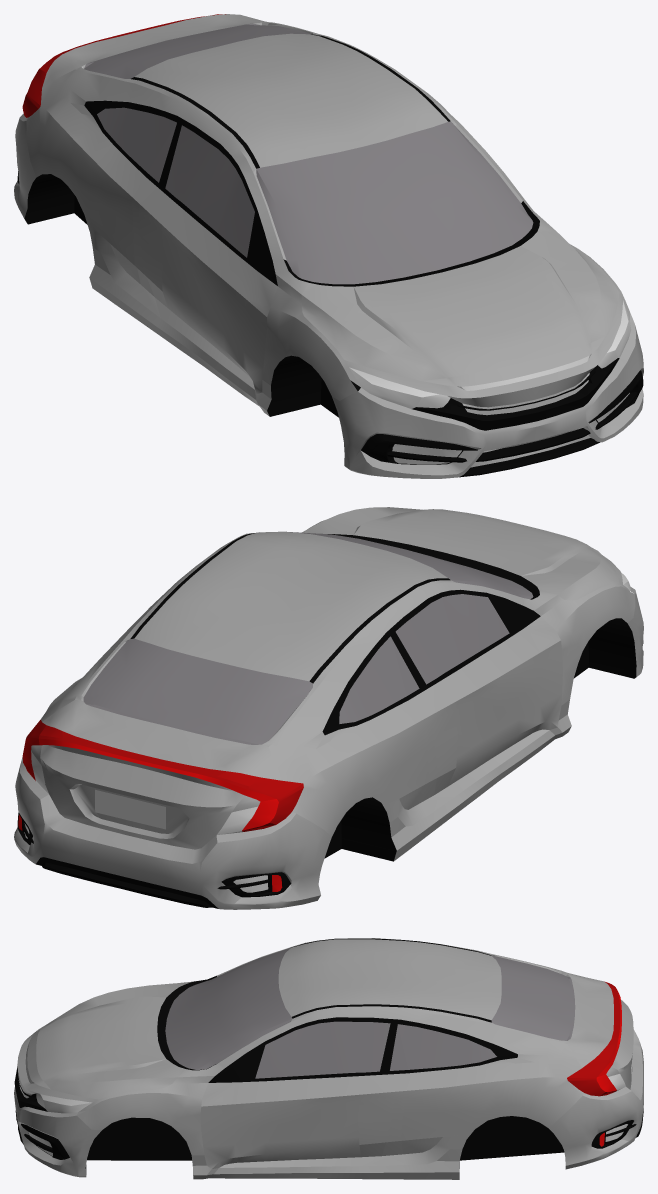
Rendered from car.glb.
3 views of the same model, one above another, from view 1: azimuth 30°, elevation 25°; view 2: azimuth 150°, elevation 25°; view 3: azimuth 270°, elevation 25° (orthographic). The views are drawn at different scales.
Parts seen in each view (by area): view 1: Body; view 2: Body; view 3: Body.
Part boxes in pixels (x1,y1,x2,y2): Body: [14, 14, 643, 478]; Body: [14, 507, 643, 909]; Body: [14, 938, 643, 1179].
Bounding box in the file's own units: 3.14 × 2 × 7.38.
